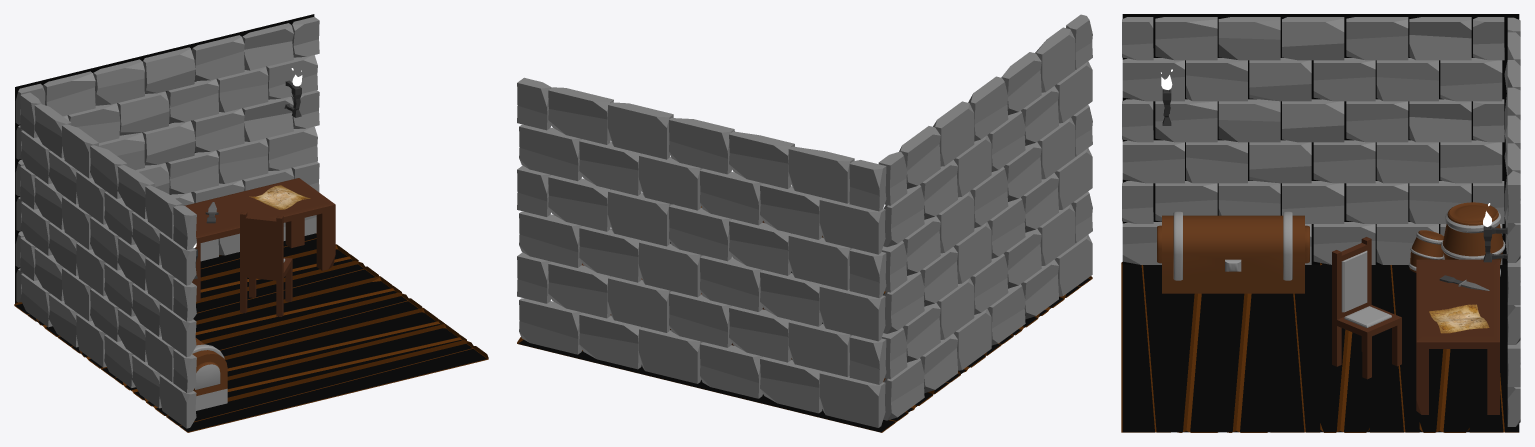
The model's file is scena.glb.
3 renders of one model, left to right at view 1: azimuth 30°, elevation 25°; view 2: azimuth 150°, elevation 25°; view 3: azimuth 270°, elevation 25°, orthographic. The views are drawn at different scales.
Visible parts, largest first — view 1: Plane, Cube.087, Cube.088, Cube, Cube.001, Cube.086, Cube.042, Cube.043, Cube.041, Cube.044, Cube.029, Cube.002 (+63 smaller); view 2: Cube.043, Cube.040, Cube.042, Cube.034, Cube.008, Cube.021, Cube.044, Cube.041, Cube.013, Cube.026, Cube.039, Cube.010 (+67 smaller); view 3: Plane, Cube.086, Cube.087, Cube.088, Cylinder, Cube.083, Cube.081, Cube.079, Cube.082, Cube.080, Cube.070, Cube.068 (+48 smaller).
Boxes of the visible parts, left/top/right/bottom form: Plane: left=15, top=14, right=486, bottom=431; Cube.087: left=184, top=178, right=335, bottom=301; Cube.088: left=240, top=211, right=292, bottom=316; Cube: left=166, top=340, right=488, bottom=432; Cube.001: left=144, top=324, right=466, bottom=415; Cube.086: left=192, top=338, right=227, bottom=410; Cube.042: left=143, top=47, right=195, bottom=93; Cube.043: left=191, top=35, right=244, bottom=80; Cube.041: left=93, top=59, right=144, bottom=105; Cube.044: left=242, top=23, right=293, bottom=70; Cube.029: left=143, top=121, right=195, bottom=165; Cube.002: left=123, top=308, right=444, bottom=400; Cube.043: left=608, top=102, right=673, bottom=159; Cube.040: left=788, top=146, right=854, bottom=203; Cube.042: left=669, top=118, right=734, bottom=174; Cube.034: left=819, top=198, right=885, bottom=254; Cube.008: left=819, top=371, right=885, bottom=427; Cube.021: left=819, top=284, right=885, bottom=341; Cube.044: left=548, top=87, right=613, bottom=144; Cube.041: left=729, top=131, right=794, bottom=188; Cube.013: left=519, top=298, right=582, bottom=354; Cube.026: left=519, top=211, right=582, bottom=267; Cube.039: left=519, top=124, right=582, bottom=181; Cube.010: left=700, top=342, right=762, bottom=398; Plane: left=1122, top=14, right=1519, bottom=432; Cube.086: left=1157, top=211, right=1309, bottom=293; Cube.087: left=1416, top=259, right=1499, bottom=414; Cube.088: left=1332, top=237, right=1401, bottom=379; Cylinder: left=1441, top=202, right=1505, bottom=276; Cube.083: left=1409, top=17, right=1471, bottom=60; Cube.081: left=1282, top=17, right=1344, bottom=60; Cube.079: left=1155, top=17, right=1217, bottom=60; Cube.082: left=1346, top=17, right=1408, bottom=60; Cube.080: left=1218, top=17, right=1280, bottom=60; Cube.070: left=1409, top=99, right=1471, bottom=142; Cube.068: left=1282, top=99, right=1344, bottom=142.
Size of what is drawn, in the model's own units: 16.09 by 11.17 by 16.12.
Materials: 12 (1 with a texture image).
